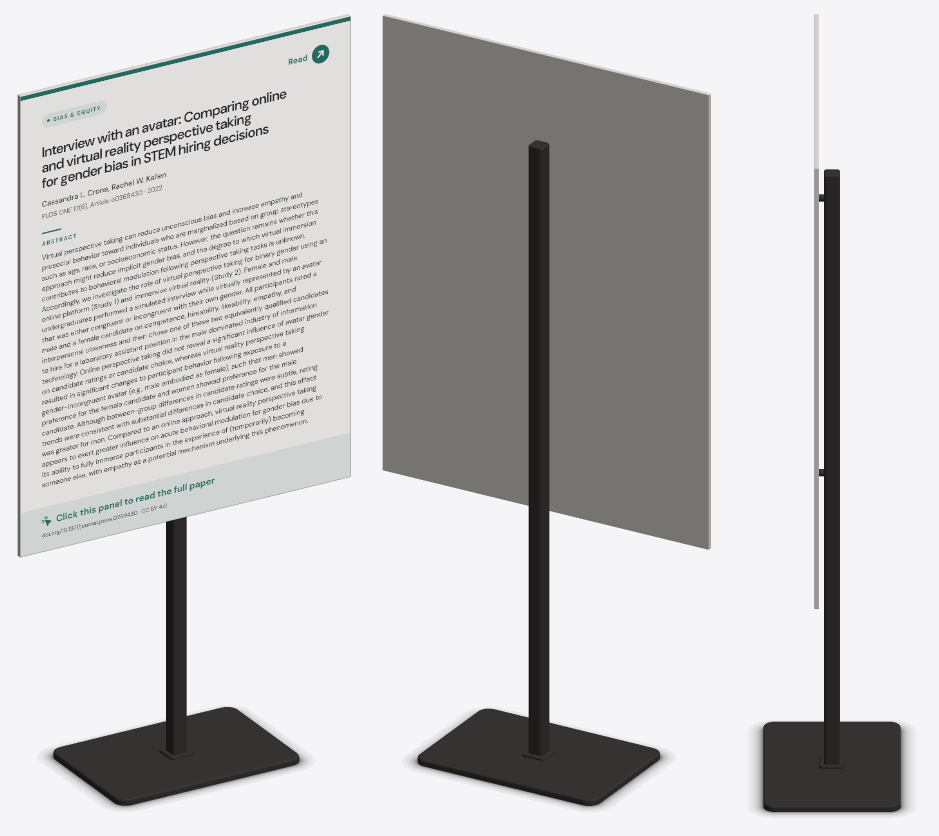
The model's file is crone-2022-stand.glb.
3 renders of one model, left to right at view 1: azimuth 30°, elevation 25°; view 2: azimuth 150°, elevation 25°; view 3: azimuth 270°, elevation 25°, orthographic. The views are drawn at different scales.
Visible parts, largest first — view 1: board, stand; view 2: board, stand; view 3: stand, board.
Part boxes in pixels (<box>): board: <box>17,14,350,557</box>; stand: <box>46,517,306,808</box>; board: <box>382,14,710,549</box>; stand: <box>410,140,666,808</box>; stand: <box>756,169,907,814</box>; board: <box>814,14,818,608</box>.
Size of the model in its own units: 0.904 by 1.85 by 0.46.
4 materials, 2 textured.
